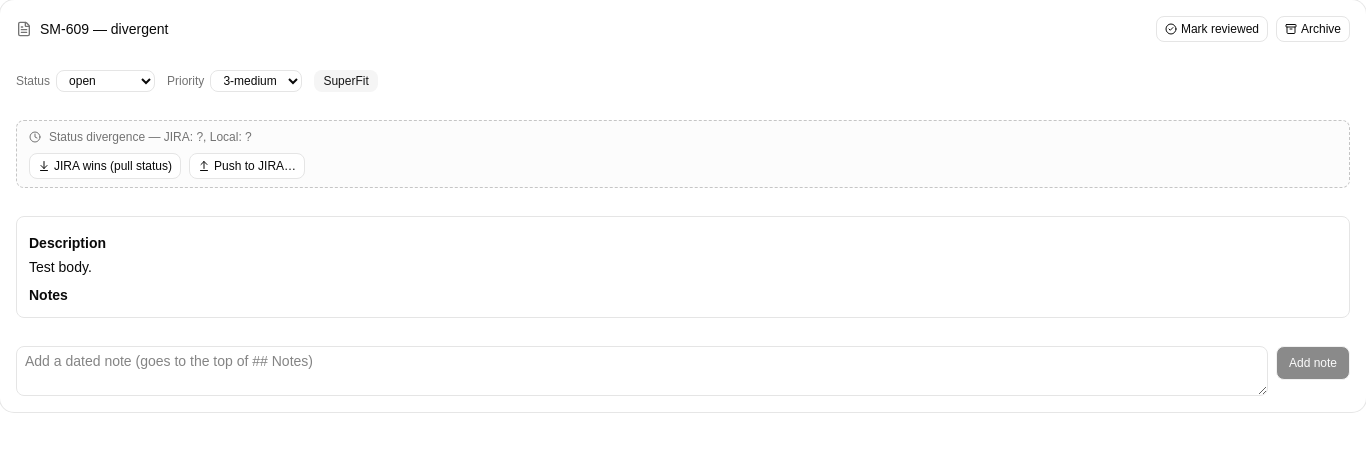
Test: ArtifactReview — decision actions › surfaces an error if the JIRA transitions fetch fails (e.g., 503 no JIRA configured)
Click the button "Push to JIRA…".
click(247, 166)  # box [189,153,305,179]
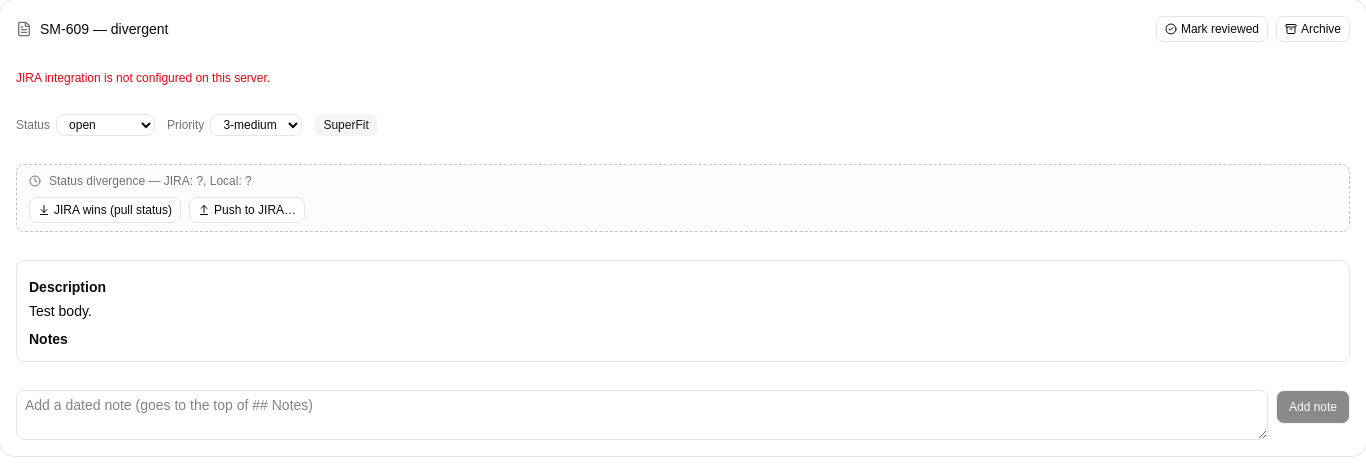
Result: the text "JIRA integration is not configured on this server." is shown at [16,71,270,85]
